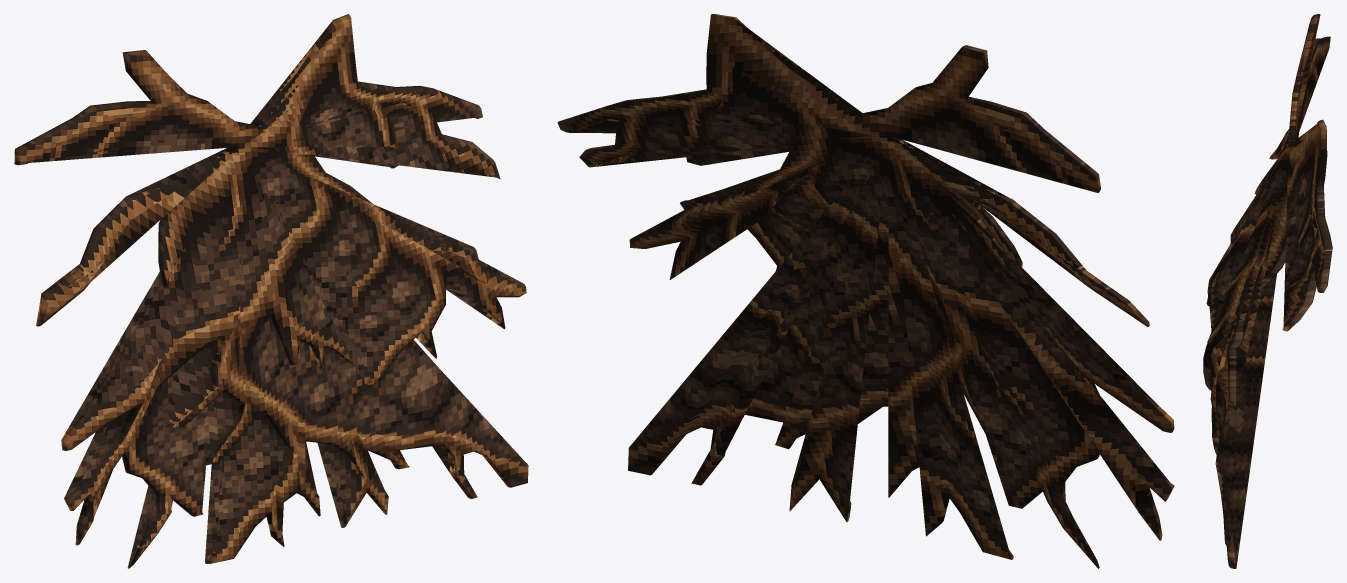
File: Climbing_Root_01.fbx
3 views of the same model, side by side, from view 1: azimuth 30°, elevation 25°; view 2: azimuth 150°, elevation 25°; view 3: azimuth 270°, elevation 25° (orthographic). The views are drawn at different scales.
Parts seen in each view (by area): view 1: Raices_Trepadas_01; view 2: Raices_Trepadas_01; view 3: Raices_Trepadas_01.
Boxes of the visible parts, box(x1,y1,x2,y2) form: Raices_Trepadas_01: box(14, 14, 528, 568); Raices_Trepadas_01: box(557, 14, 1174, 568); Raices_Trepadas_01: box(1203, 14, 1332, 568).
Size of the model in its own units: 200 by 194 by 55.72.
